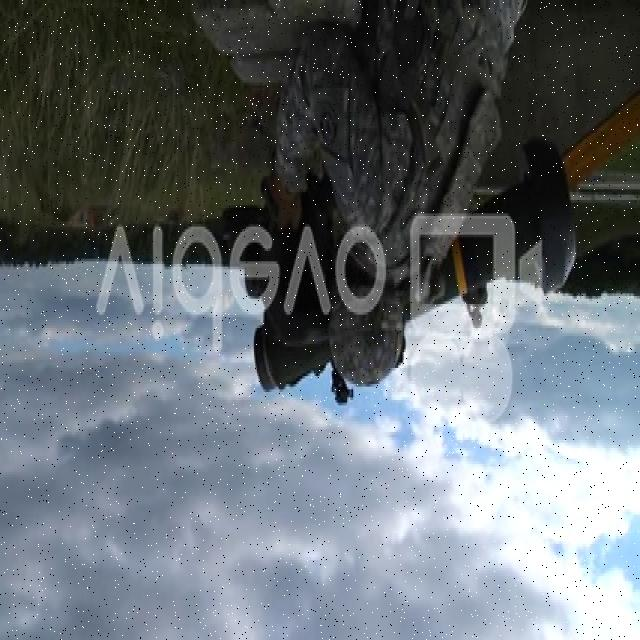bazooka: (254, 139, 581, 400)
